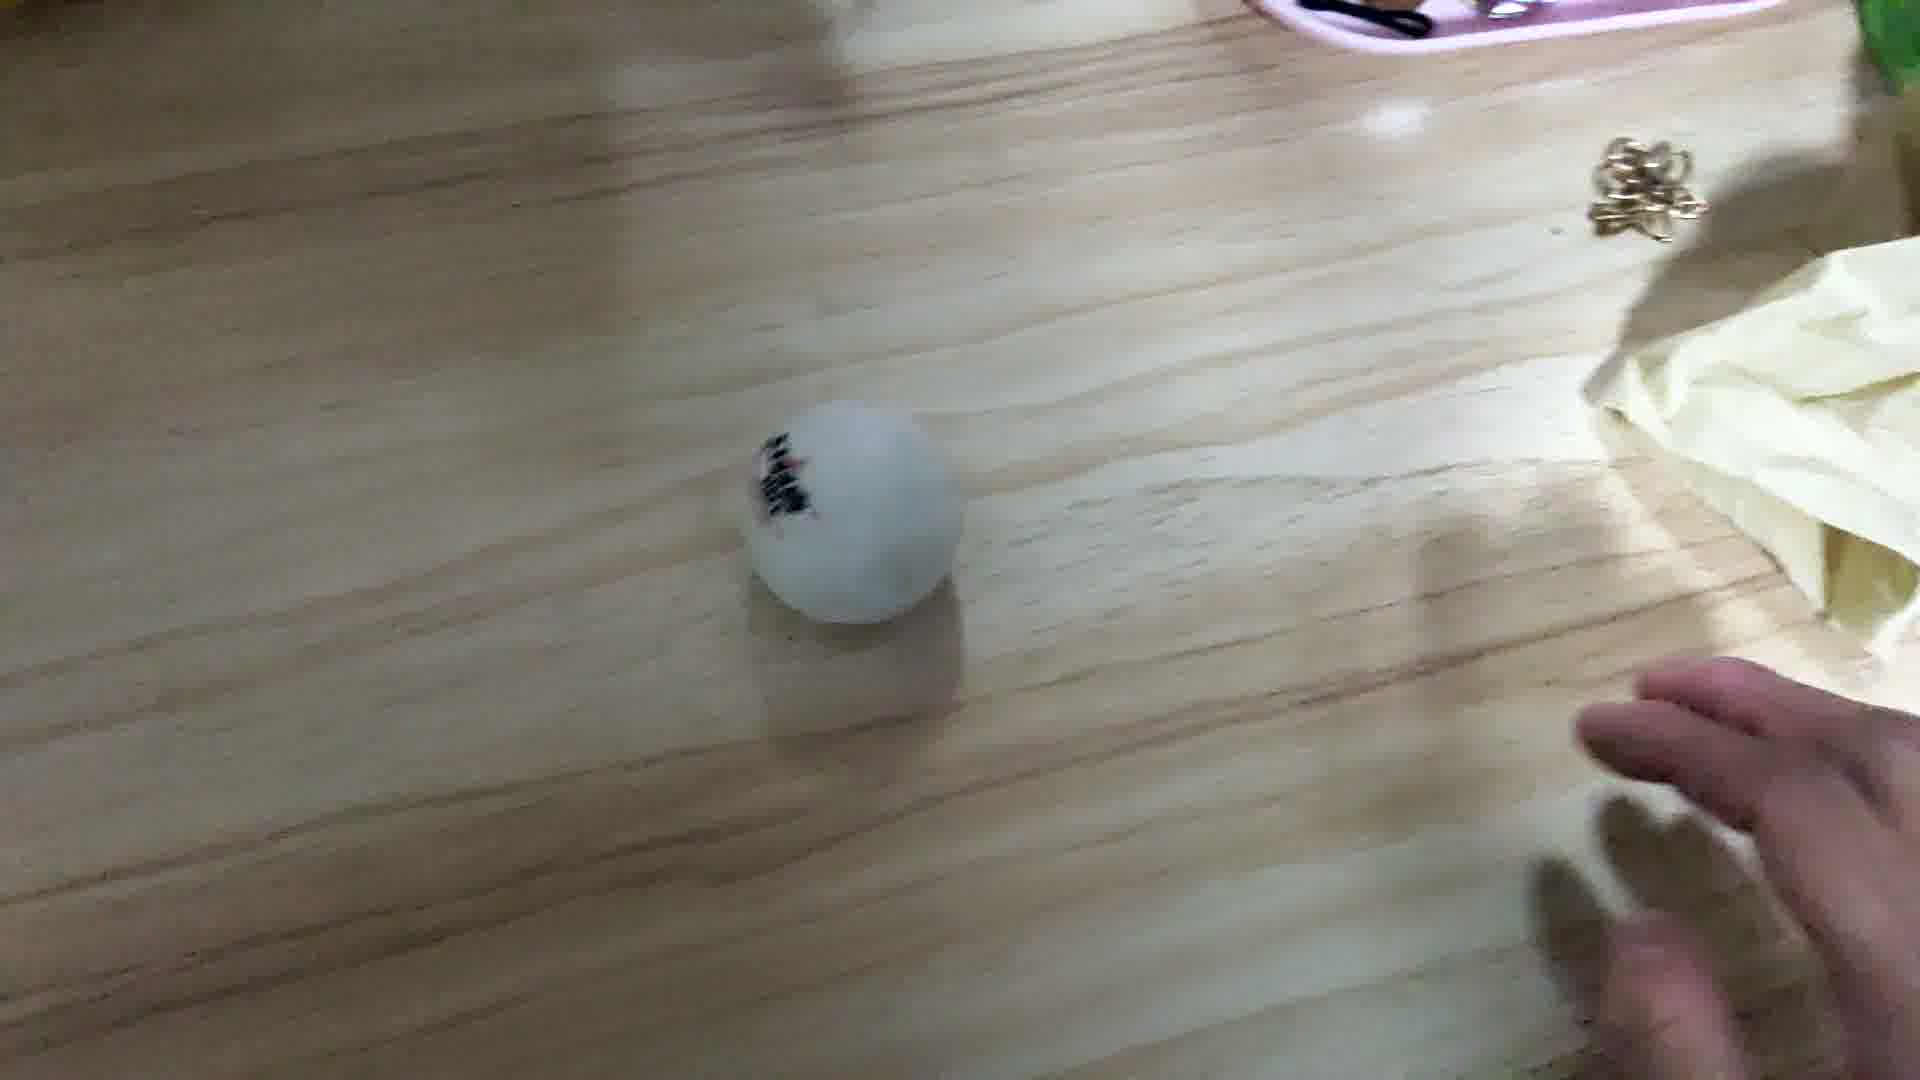Ball: (735, 398, 971, 624)
